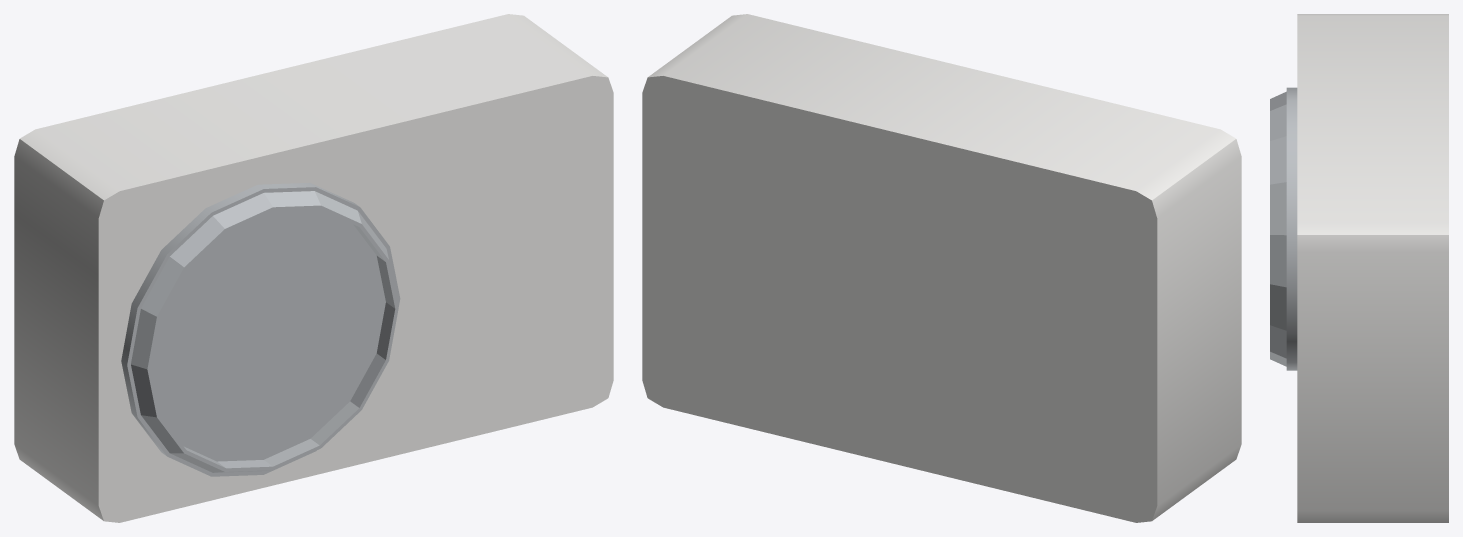
The model's file is SM_airconditioner_02.fbx.
3 renders of one model, left to right at view 1: azimuth 30°, elevation 25°; view 2: azimuth 150°, elevation 25°; view 3: azimuth 270°, elevation 25°, orthographic. The views are drawn at different scales.
Parts seen in each view (by area): view 1: Box039; view 2: Box039; view 3: Box039.
Boxes of the visible parts, left/top/right/bottom form: Box039: left=14, top=14, right=613, bottom=522; Box039: left=642, top=14, right=1241, bottom=522; Box039: left=1270, top=14, right=1448, bottom=522.
Size of the model in its own units: 36.52 by 12.24 by 22.49.
